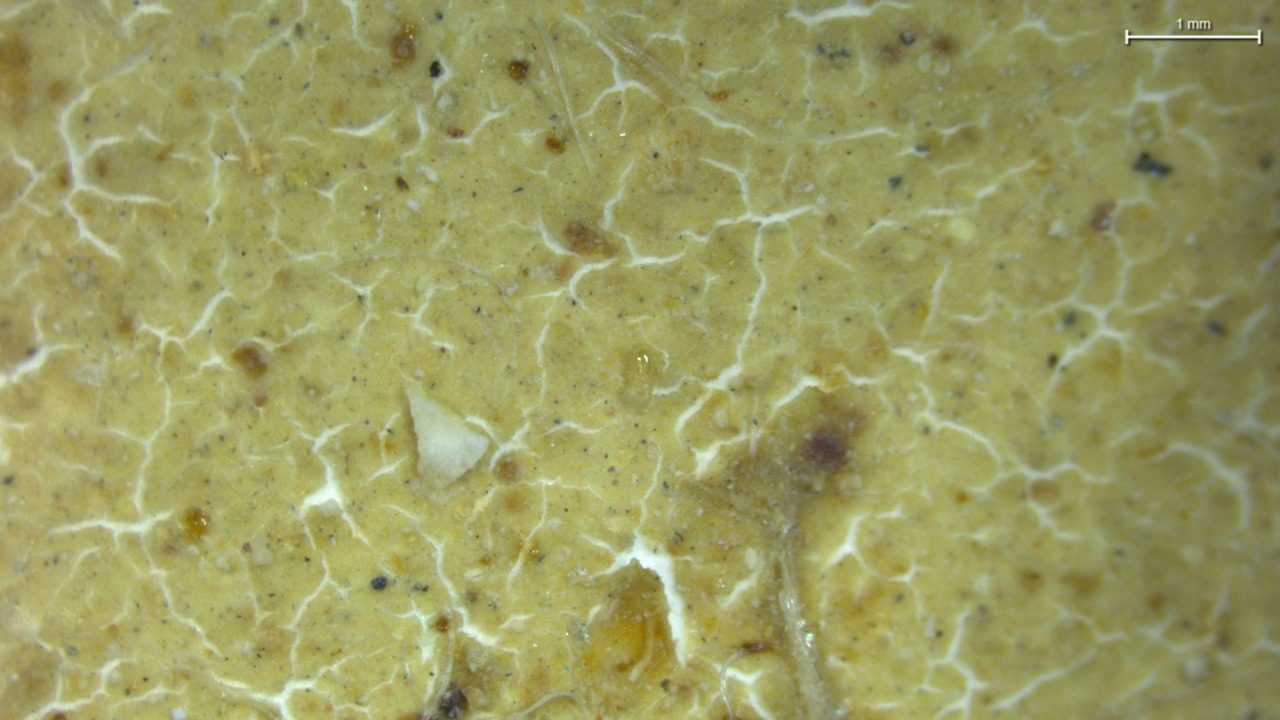microplastic_fragment: (405, 378, 493, 490)
